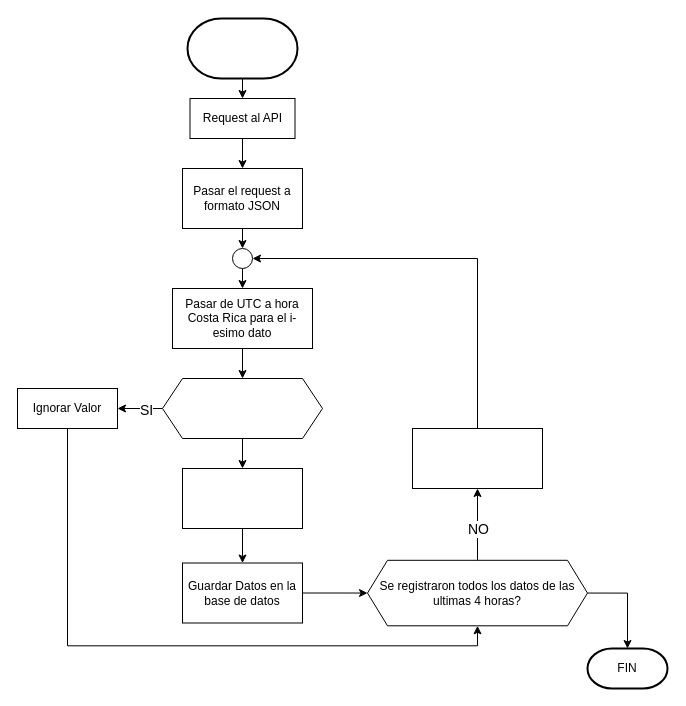
The diagram is 686 pixels wide and 706 high, and some of its shapes have lost their labels. Each missing label, with the box of its shape:
Cambiar el indice que extrae el i-ésimo valor: (412, 428, 542, 488)
Está este valor para esta fecha en la base de datos?: (162, 378, 322, 438)
Extraer datos del objeto JSON: (182, 468, 302, 528)
Recoleccion de Datos (INICIO): (186, 17, 298, 79)
